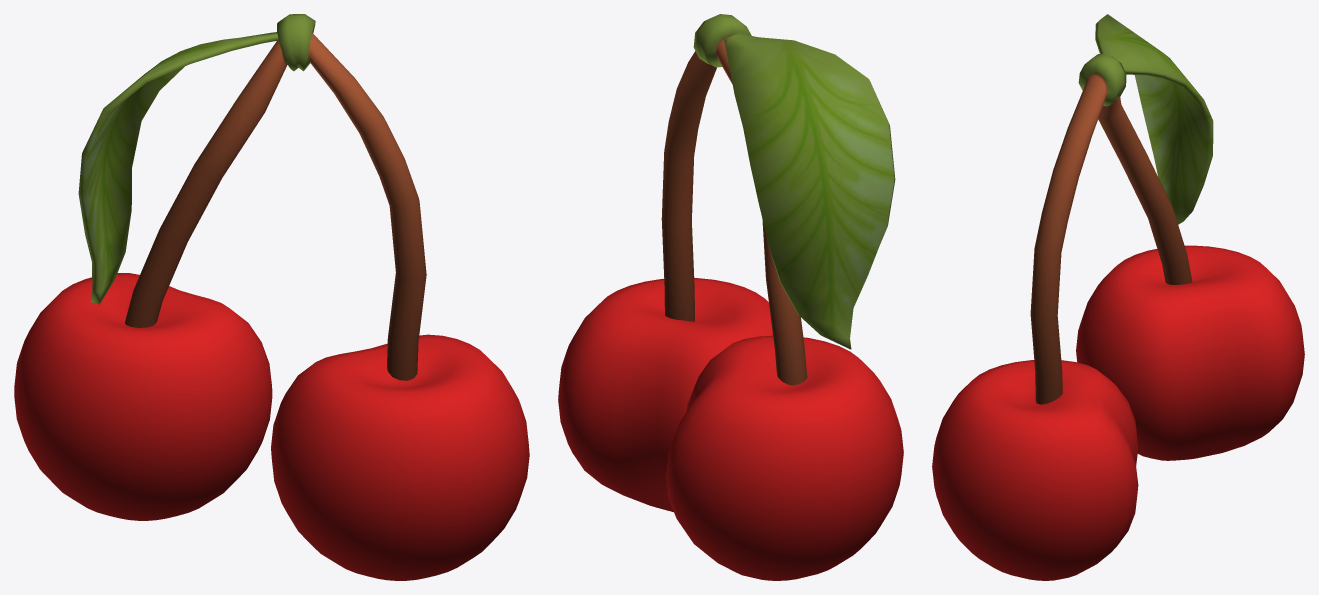
File: Cherry.fbx
3 renders of one model, left to right at view 1: azimuth 30°, elevation 25°; view 2: azimuth 150°, elevation 25°; view 3: azimuth 270°, elevation 25°, orthographic. The views are drawn at different scales.
Parts seen in each view (by area): view 1: Cherry; view 2: Cherry; view 3: Cherry.
Boxes of the visible parts, x1,y1,x2,y2 form: Cherry: [14, 14, 529, 580]; Cherry: [558, 14, 903, 580]; Cherry: [932, 14, 1304, 580].
Bounding box in the file's own units: 6.94 × 9.05 × 6.34.
